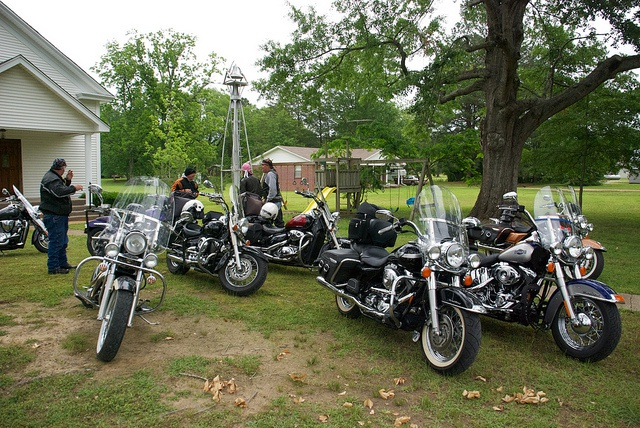non-vehicle: (315, 186, 486, 376), (468, 184, 627, 362), (70, 177, 174, 361), (166, 181, 267, 296), (234, 178, 344, 270), (465, 204, 535, 254), (0, 184, 49, 253), (82, 209, 108, 253)
